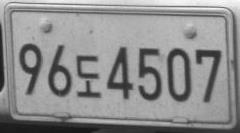0: (166, 47, 192, 102)
4: (105, 46, 133, 100)
5: (137, 48, 162, 101)
6: (46, 44, 72, 97)
7: (195, 49, 222, 103)
9: (18, 42, 42, 95)
도: (75, 54, 101, 98)
